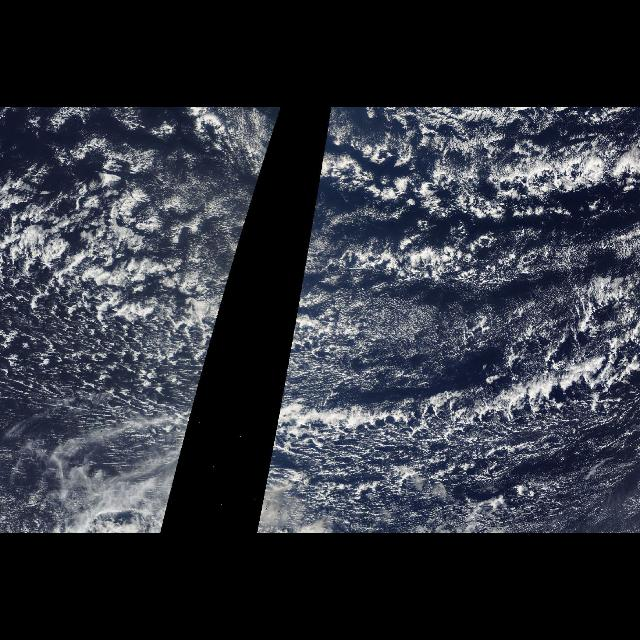Gravel: (327, 326, 626, 534), (1, 204, 218, 436)
Sugar: (278, 378, 636, 534), (304, 255, 634, 373)
